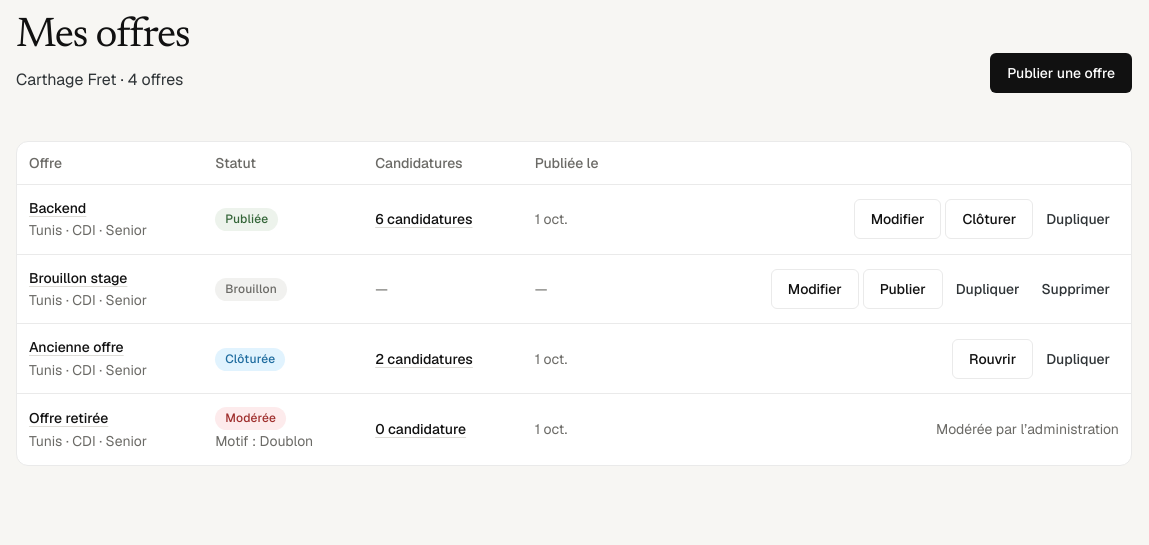
Test: "Mes offres" › shows the API message when the change is refused
This screenshot has width=1149, height=545.
What coordinates should you click on to do the following:
click the button "Clôturer"
I would click on:
 (989, 219)
Its box is [945, 199, 1033, 239].
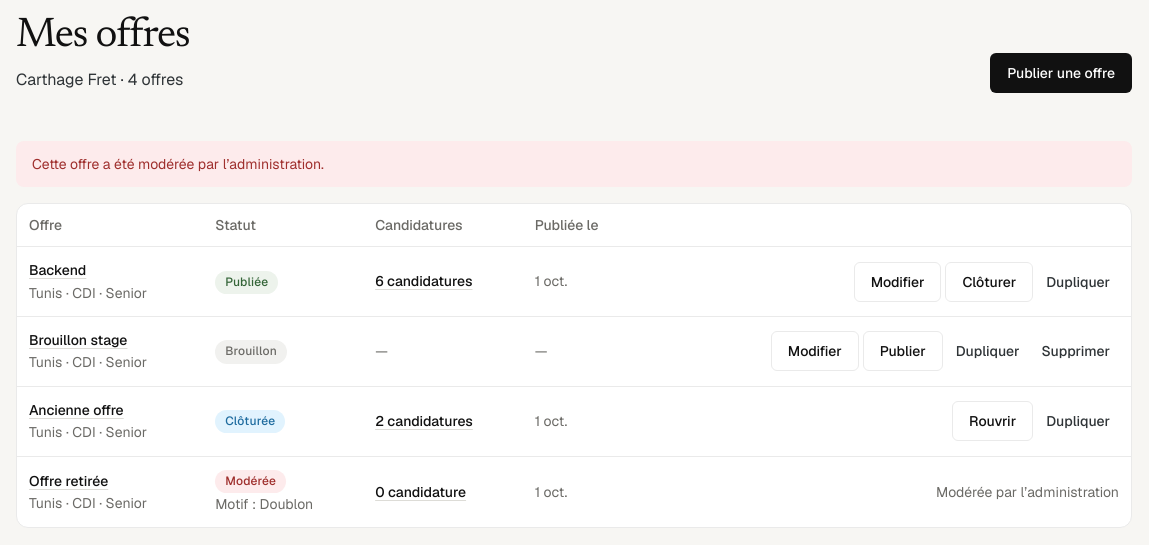
Expected: the message shows "modérée par l’administration", [32, 154, 324, 172]
